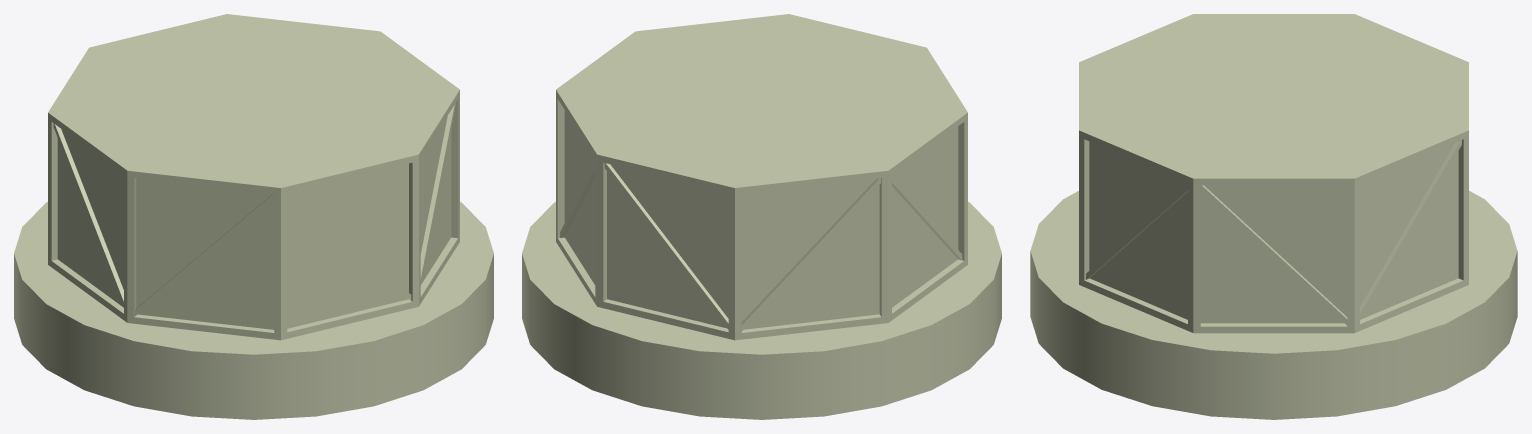
File: acamar_crew_s2_s1_1.obj
3 renders of one model, left to right at view 1: azimuth 30°, elevation 25°; view 2: azimuth 150°, elevation 25°; view 3: azimuth 270°, elevation 25°, orthographic.
Visible parts, largest first — view 1: Cylinder1; view 2: Cylinder1; view 3: Cylinder1.
Boxes of the visible parts, x1=… form: Cylinder1: x1=14, y1=14, x2=493, y2=419; Cylinder1: x1=522, y1=14, x2=1001, y2=419; Cylinder1: x1=1030, y1=14, x2=1517, y2=419.
Size of the model in its own units: 2.5 by 1.25 by 2.5.
